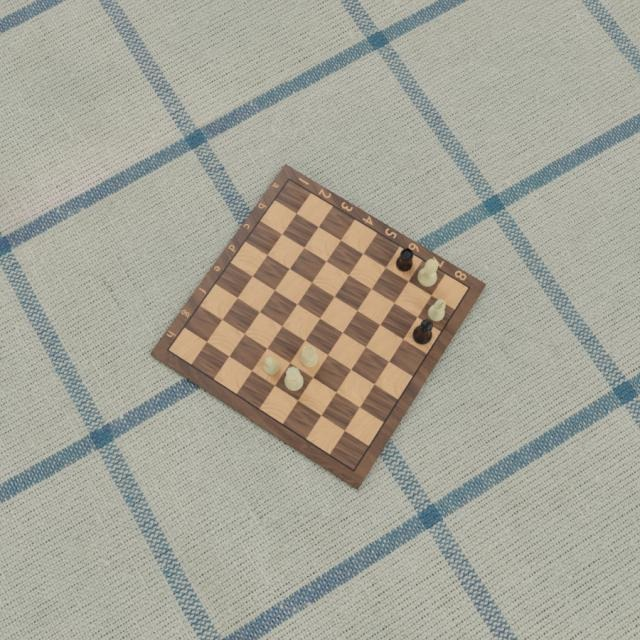black-king: (410, 317, 433, 347)
black-rook: (396, 247, 414, 273)
white-bishop: (427, 297, 447, 324)
white-king: (417, 258, 438, 290)
white-pawn: (263, 357, 279, 377)
white-queen: (284, 362, 303, 394)
white-rook: (302, 345, 318, 370)
